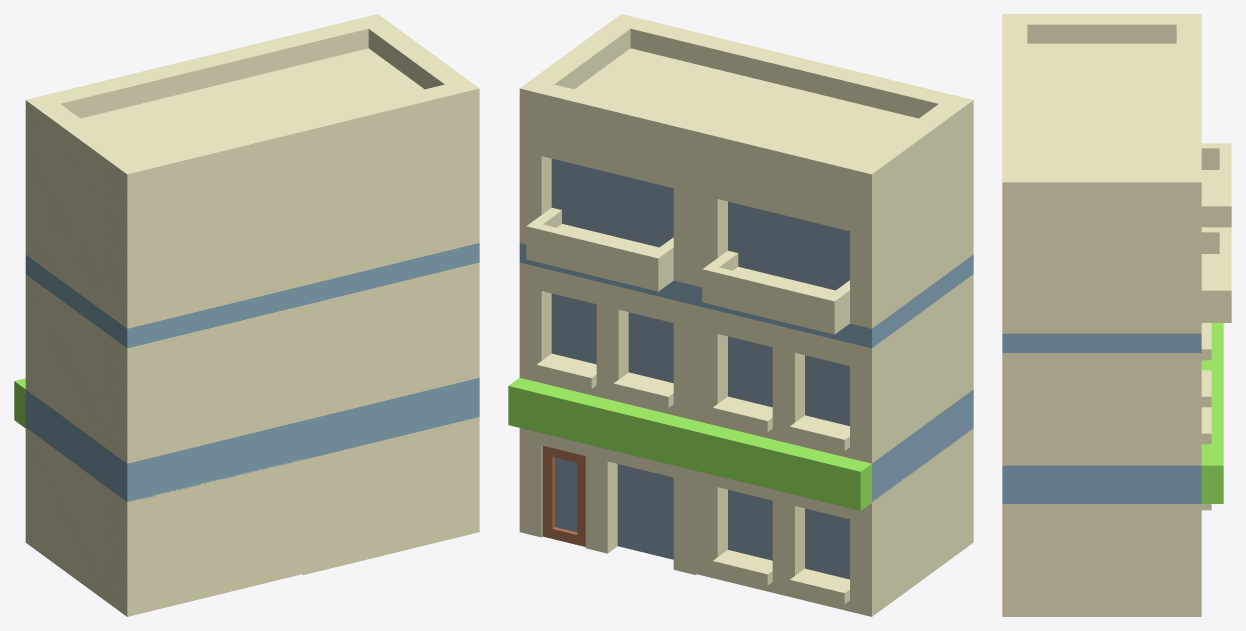
File: SM_Building_03.fbx
3 renders of one model, left to right at view 1: azimuth 30°, elevation 25°; view 2: azimuth 150°, elevation 25°; view 3: azimuth 270°, elevation 25°, orthographic. The views are drawn at different scales.
Parts seen in each view (by area): view 1: SM_Building_03; view 2: SM_Building_03; view 3: SM_Building_03.
Boxes of the visible parts, left/top/right/bottom form: SM_Building_03: left=14, top=14, right=479, bottom=616; SM_Building_03: left=508, top=14, right=973, bottom=616; SM_Building_03: left=1002, top=14, right=1231, bottom=616.
Bounding box in the file's own units: 800 × 963 × 460.
